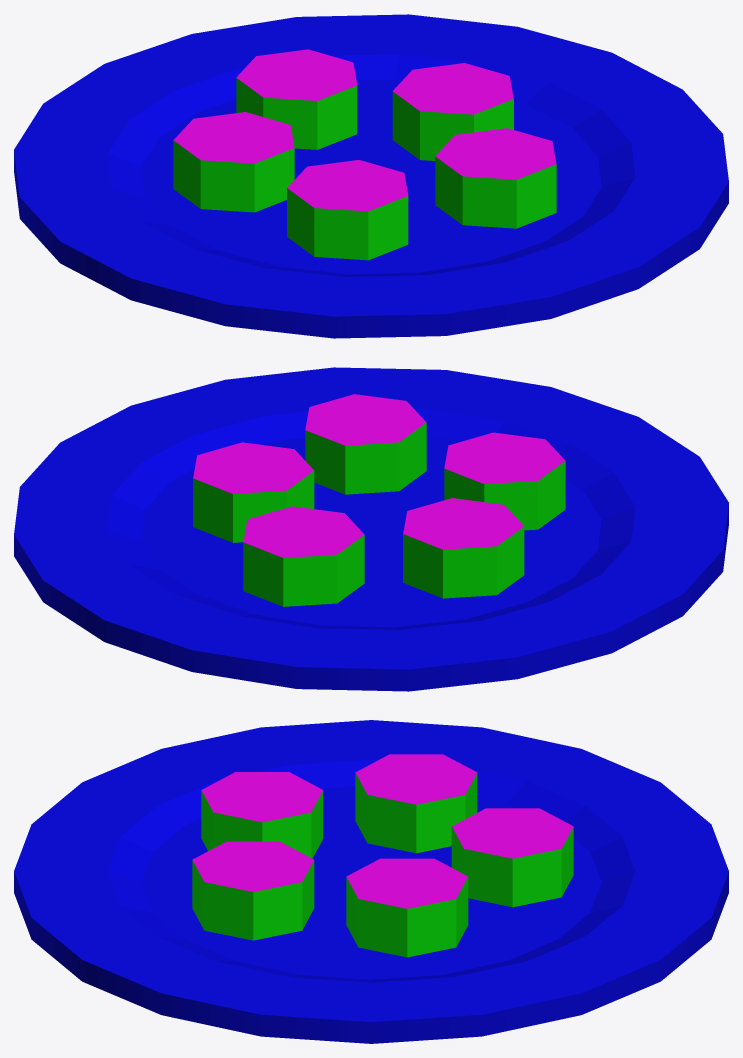
File: sushi_low.fbx
3 views of the same model, one above another, from view 1: azimuth 30°, elevation 25°; view 2: azimuth 150°, elevation 25°; view 3: azimuth 270°, elevation 25° (orthographic).
Visible parts, largest first — view 1: pCylinder1, pCylinder6, pCylinder7, pCylinder8, pCylinder4, pCylinder5; view 2: pCylinder1, pCylinder8, pCylinder4, pCylinder6, pCylinder5, pCylinder7; view 3: pCylinder1, pCylinder6, pCylinder5, pCylinder4, pCylinder8, pCylinder7.
Part boxes in pixels (<box>): pCylinder1: <box>14,14,728,338</box>; pCylinder6: <box>435,128,556,228</box>; pCylinder7: <box>287,160,408,260</box>; pCylinder8: <box>173,112,294,212</box>; pCylinder4: <box>236,49,357,149</box>; pCylinder5: <box>392,63,513,160</box>; pCylinder1: <box>14,367,728,691</box>; pCylinder8: <box>403,498,524,598</box>; pCylinder4: <box>243,506,364,606</box>; pCylinder6: <box>305,394,426,494</box>; pCylinder5: <box>193,442,314,542</box>; pCylinder7: <box>444,432,565,530</box>; pCylinder1: <box>14,720,728,1043</box>; pCylinder6: <box>192,841,314,940</box>; pCylinder5: <box>346,858,468,957</box>; pCylinder4: <box>451,808,573,907</box>; pCylinder8: <box>355,754,477,853</box>; pCylinder7: <box>201,772,323,858</box>.
Bounding box in the file's own units: 1.6 × 0.1971 × 1.6.
